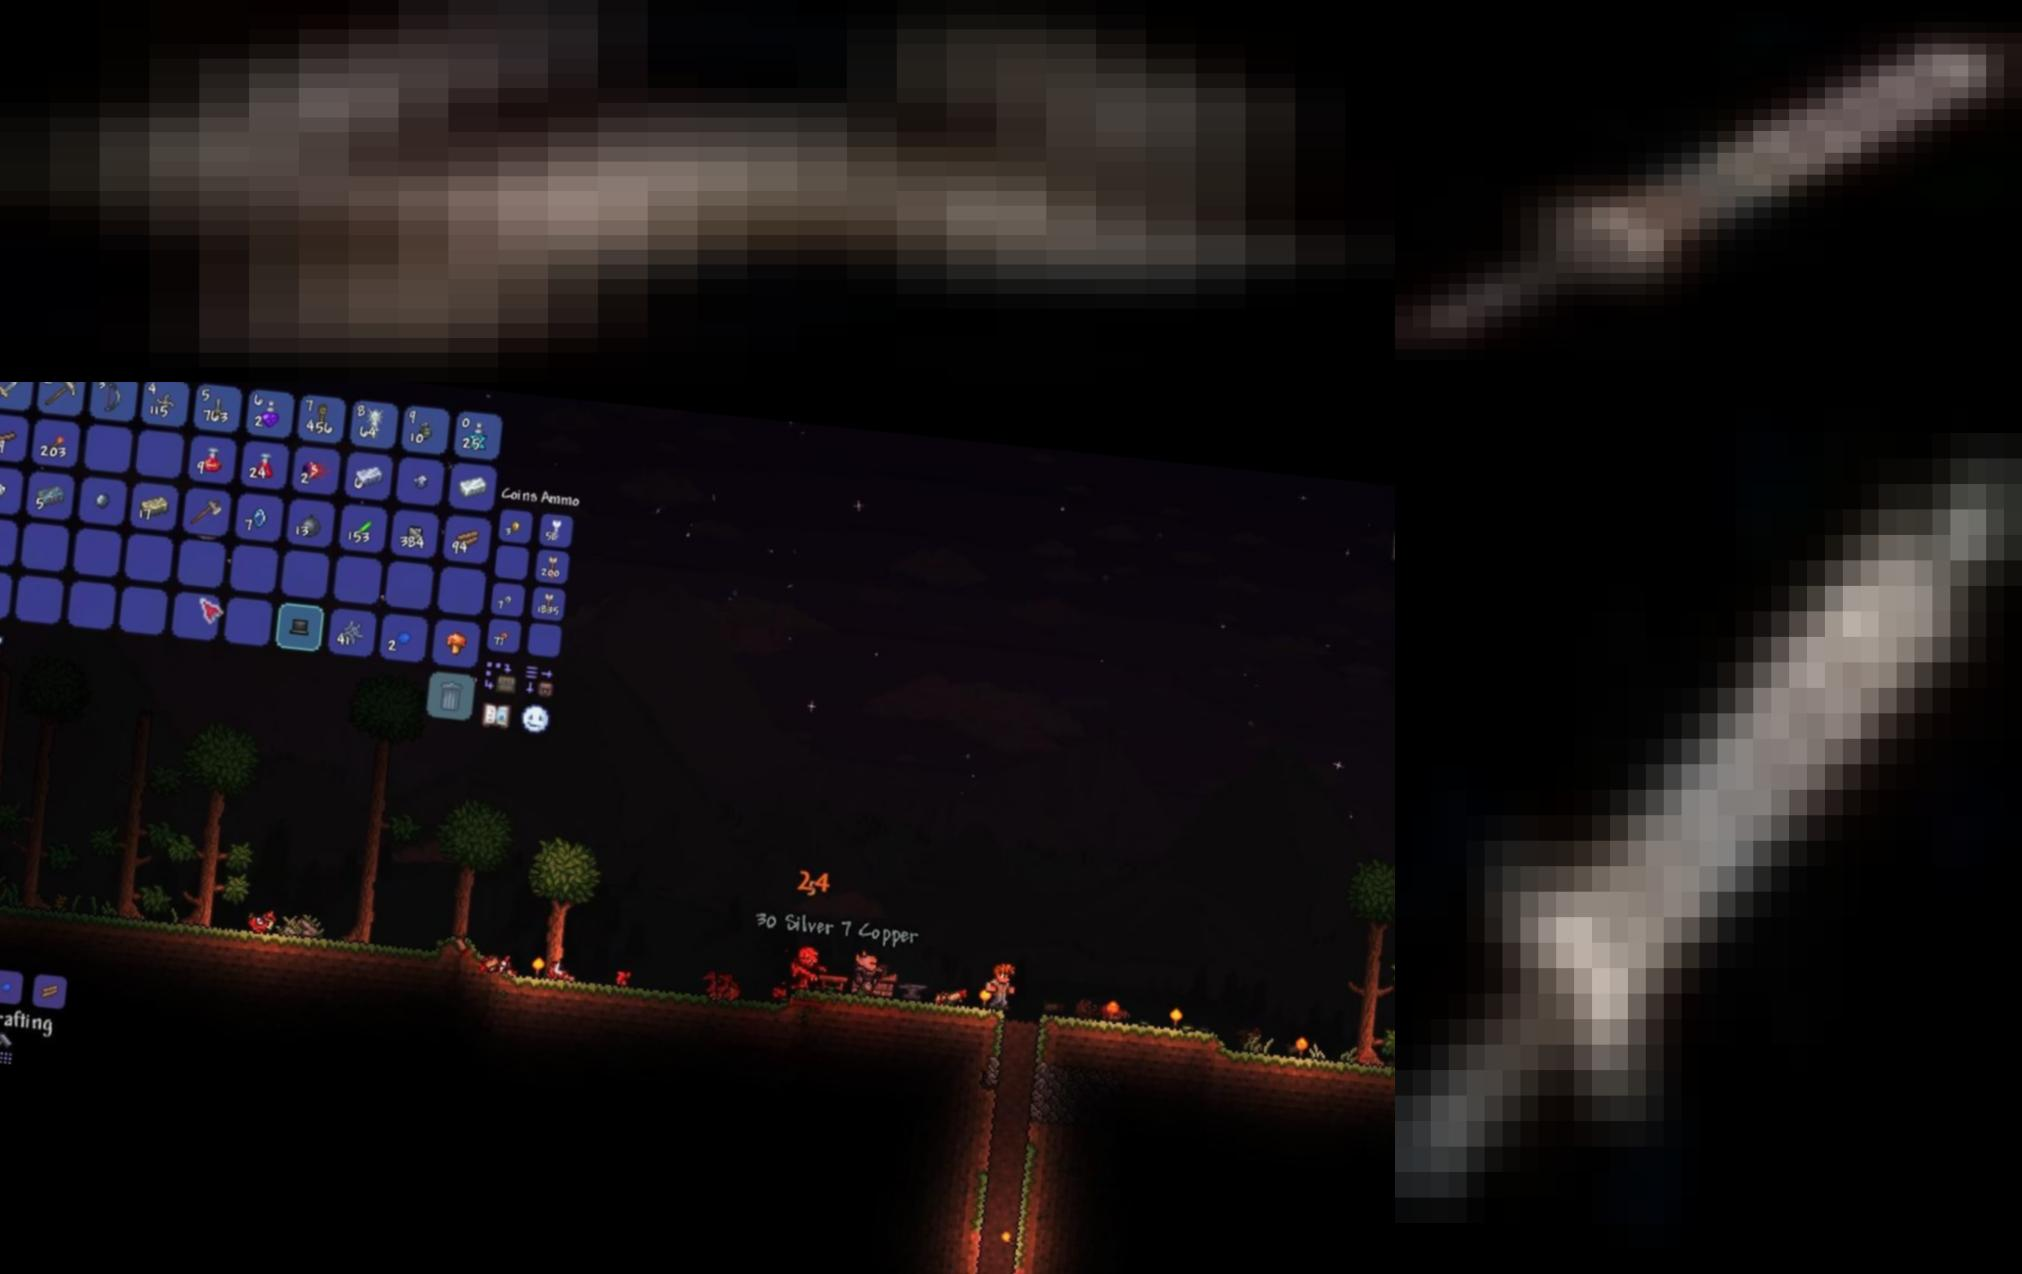helmet: (0, 0, 1395, 382)
sword: (1395, 382, 2022, 1274), (1395, 0, 2022, 382)
